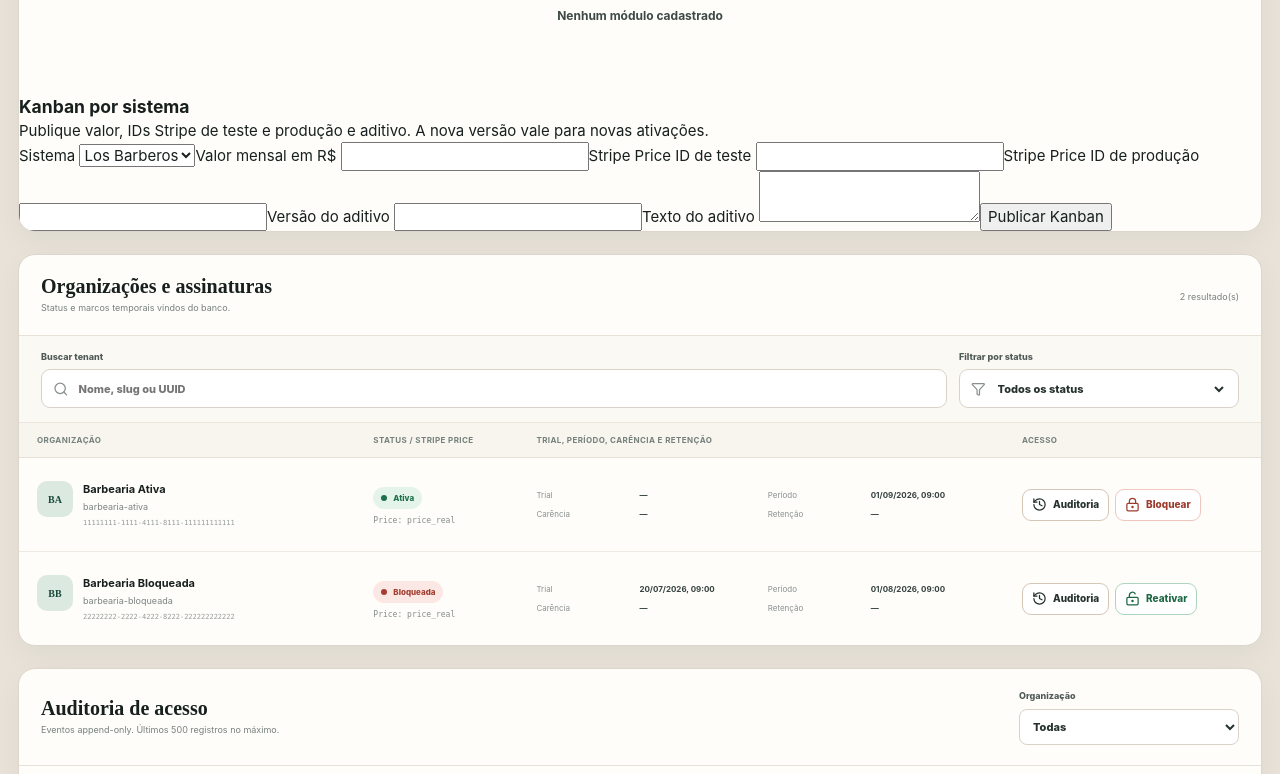
Test: connected platform admin › filtra por status e mostra zero state
(page scrolled)
Select "Bloqueada" in the dropdown labelled "Filtrar por status" at (1110, 389), box [994,381,1227,397]
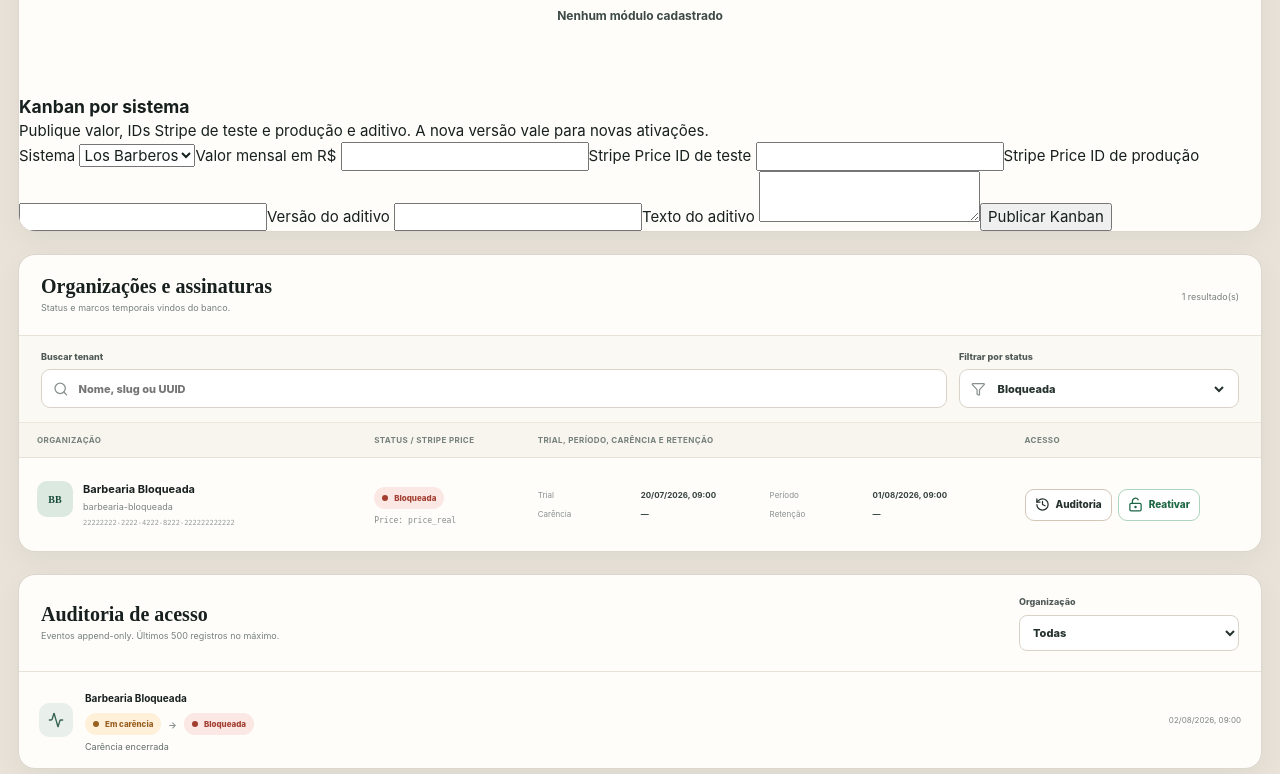
Expected: the text "Barbearia Bloqueada" next to "BB" is shown, [83,482,195,496]
Result: the text "Barbearia Ativa" is gone
Type "inexistente" into the field labelled "Buscar tenant" at (506, 389), box [77,380,935,398]
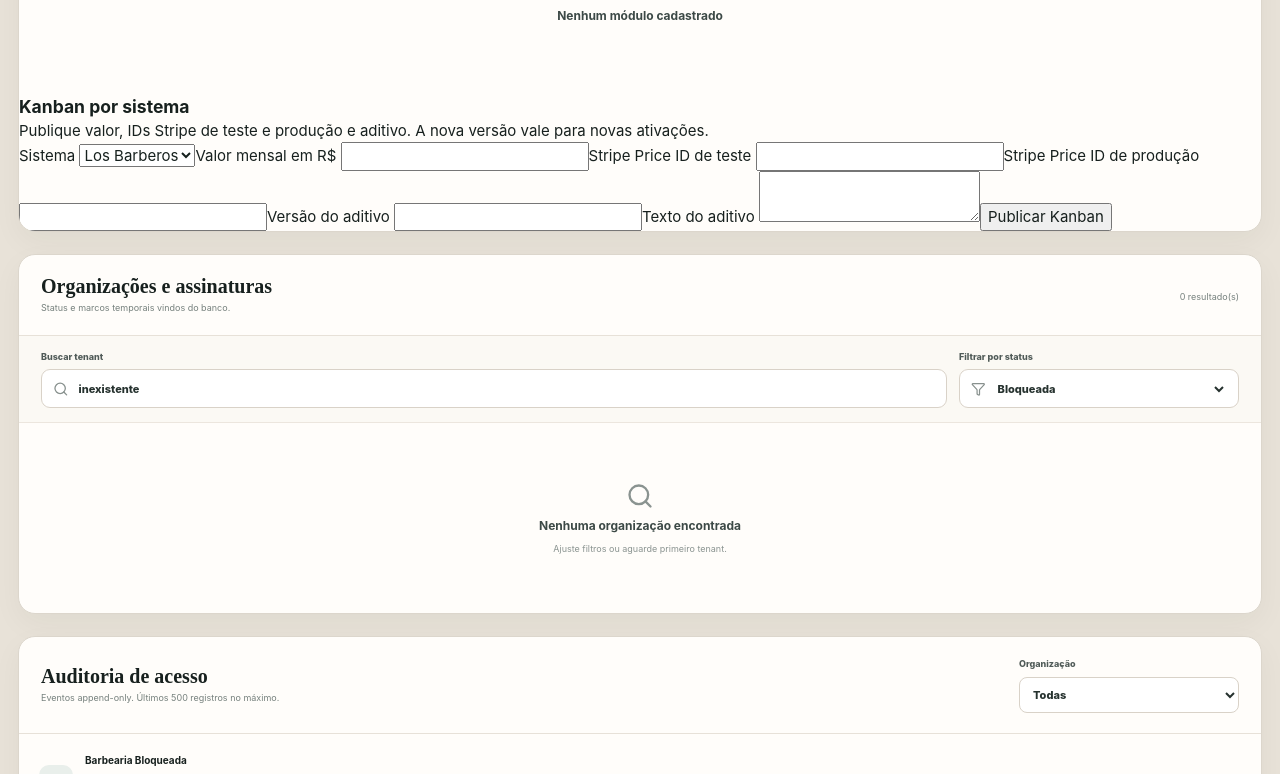
Result: the text "Nenhuma organização encontrada" is shown at [539,517,741,535]
